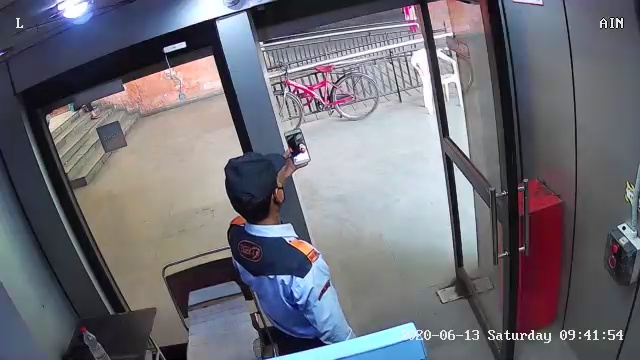open: (380, 4, 554, 354)
